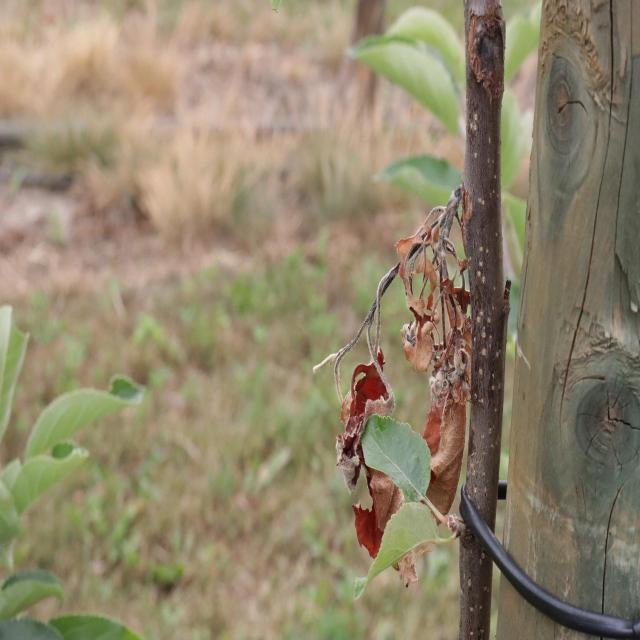-FireBlight-: (324, 186, 473, 589)
